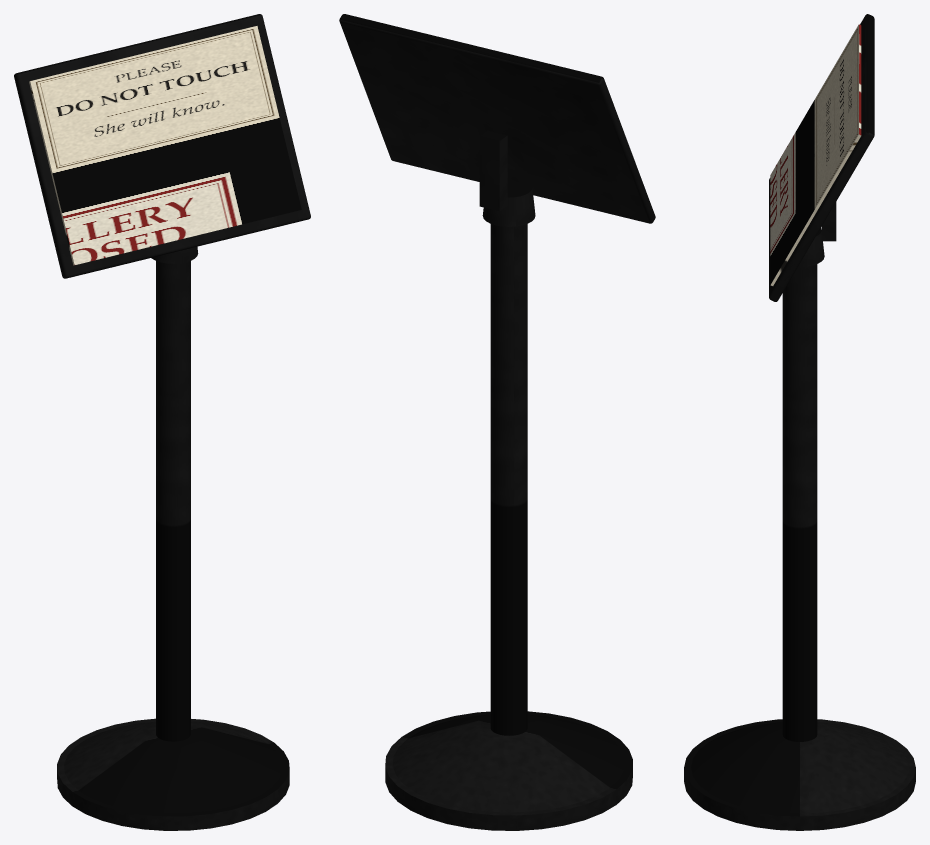
The model's file is do_not_touch.gltf.
The picture shows the model from 3 angles, left to right: view 1: azimuth 30°, elevation 25°; view 2: azimuth 150°, elevation 25°; view 3: azimuth 270°, elevation 25°; orthographic projection. The views are drawn at different scales.
Parts seen in each view (by area): view 1: DoNotTouch; view 2: DoNotTouch; view 3: DoNotTouch.
Part boxes in pixels (left/top/right/bottom): DoNotTouch: left=14, top=14, right=310, bottom=830; DoNotTouch: left=339, top=14, right=655, bottom=830; DoNotTouch: left=684, top=14, right=915, bottom=830.
Size of the model in its own units: 0.39 by 1.08 by 0.32.
Materials: 2 (2 with a texture image).
